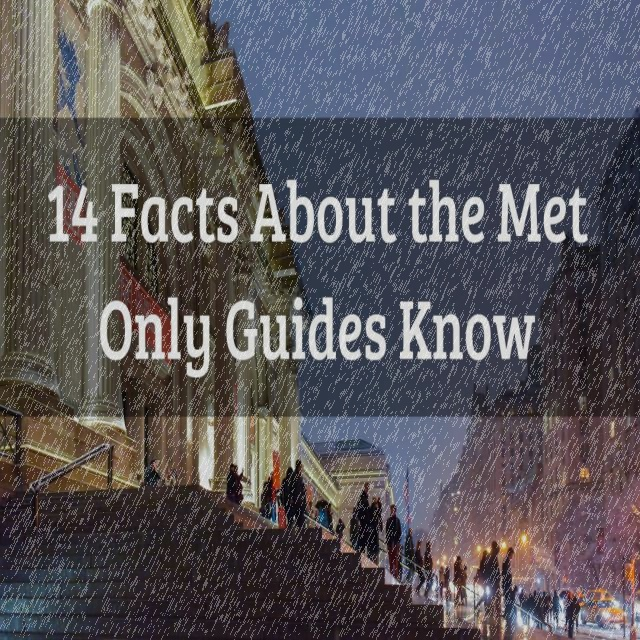pessoa: (518, 586, 552, 632), (384, 502, 402, 586), (286, 458, 306, 526), (354, 480, 370, 560), (487, 539, 502, 623), (367, 495, 384, 566), (501, 545, 515, 619), (279, 464, 295, 528), (310, 498, 334, 536), (402, 526, 416, 585), (476, 548, 488, 614), (422, 540, 434, 600), (414, 540, 426, 596), (349, 506, 362, 554), (564, 590, 576, 640), (143, 458, 162, 488), (508, 583, 518, 638), (225, 462, 238, 504), (453, 554, 463, 606), (300, 480, 310, 530), (570, 592, 581, 634), (234, 464, 244, 508), (260, 480, 270, 520), (551, 594, 563, 626), (460, 562, 468, 607), (623, 592, 634, 624), (562, 590, 570, 632), (396, 542, 404, 583), (437, 565, 445, 603), (334, 516, 346, 540), (552, 588, 560, 623), (165, 467, 178, 488), (589, 599, 615, 608), (275, 488, 281, 526), (443, 566, 451, 589), (136, 470, 144, 486), (156, 476, 166, 486), (268, 470, 274, 486), (171, 468, 177, 482), (459, 558, 462, 574), (455, 592, 458, 606)
